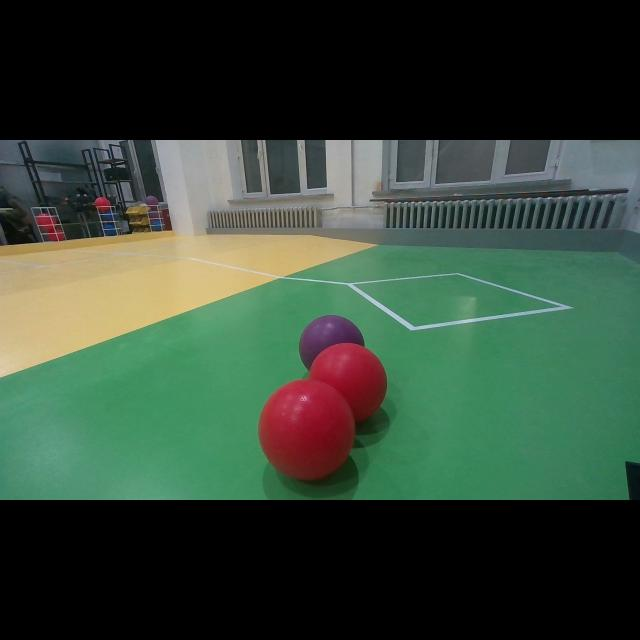P: (293, 317, 362, 359)
R: (258, 380, 356, 480), (311, 345, 394, 431)
